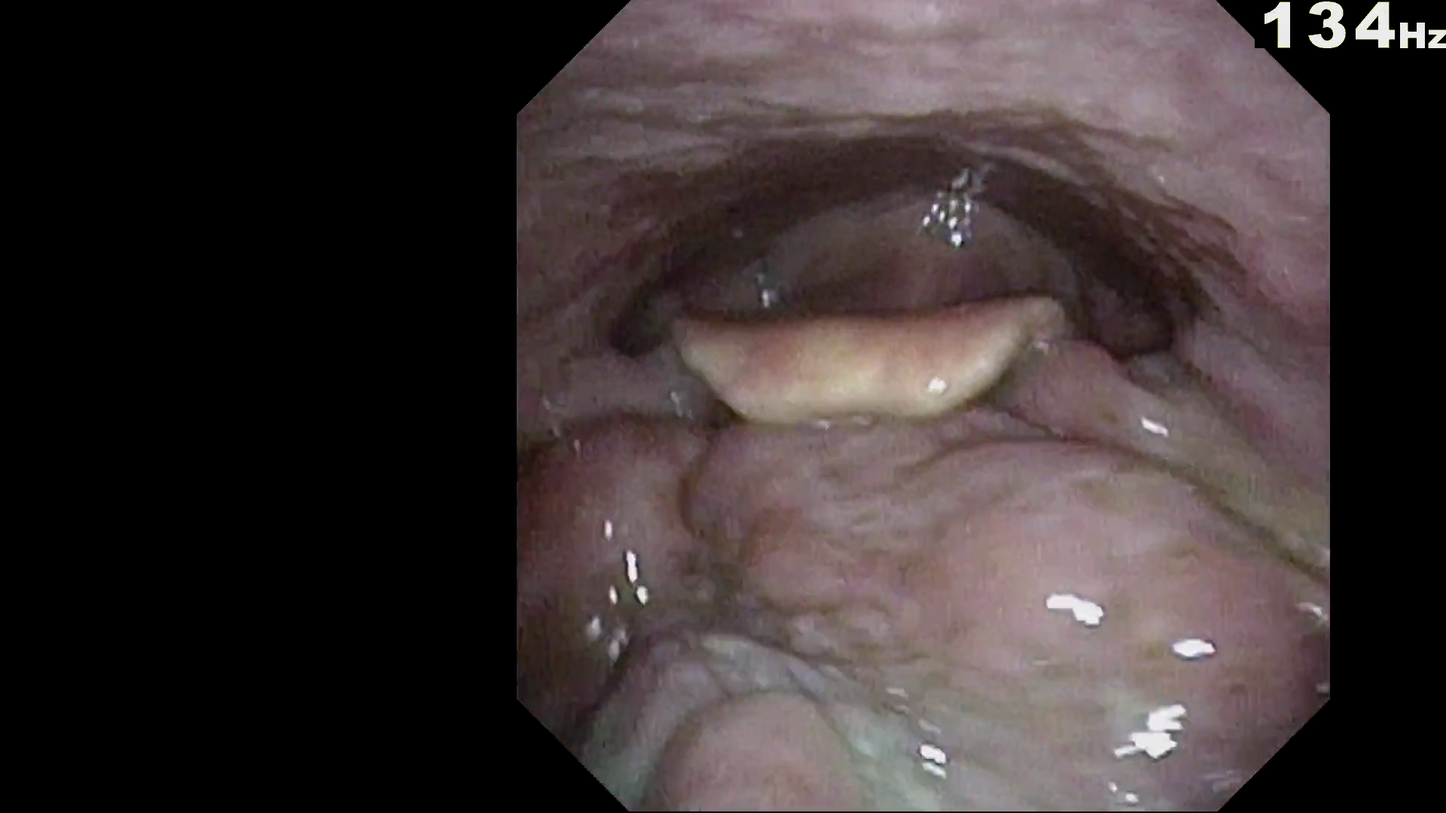epiglottis: (638, 301, 1105, 420)
